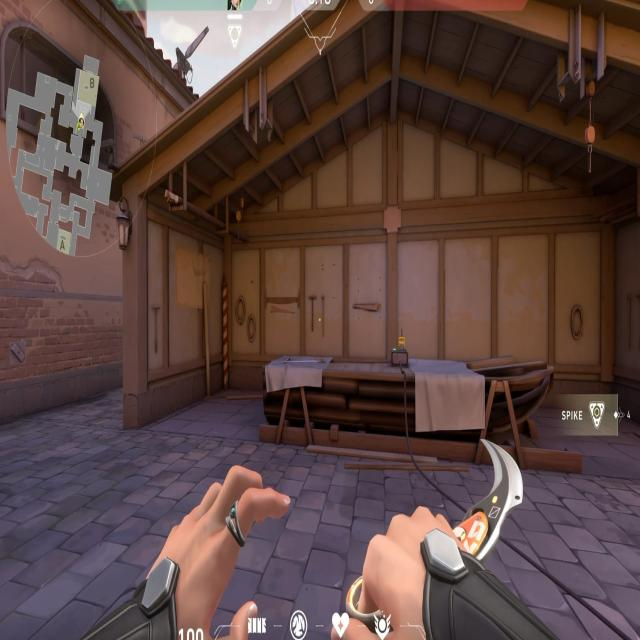B_Garage_Left: (115, 170, 310, 434)
B_Garage_Right: (509, 193, 640, 446)
